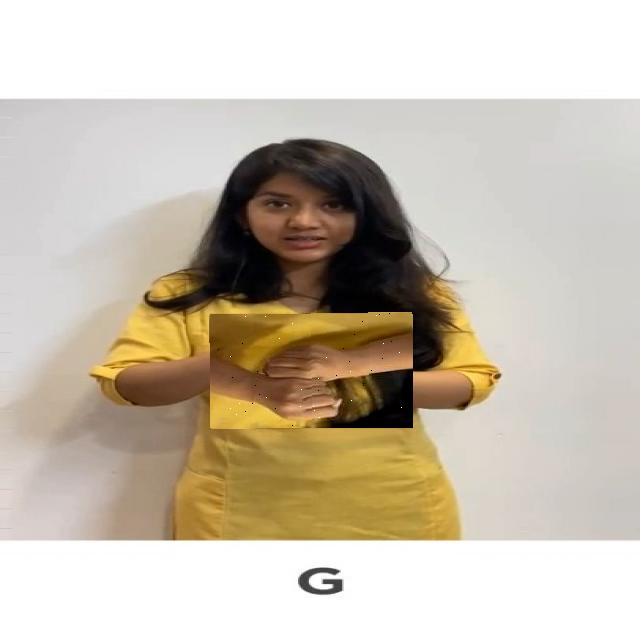G: (210, 313, 413, 429)
